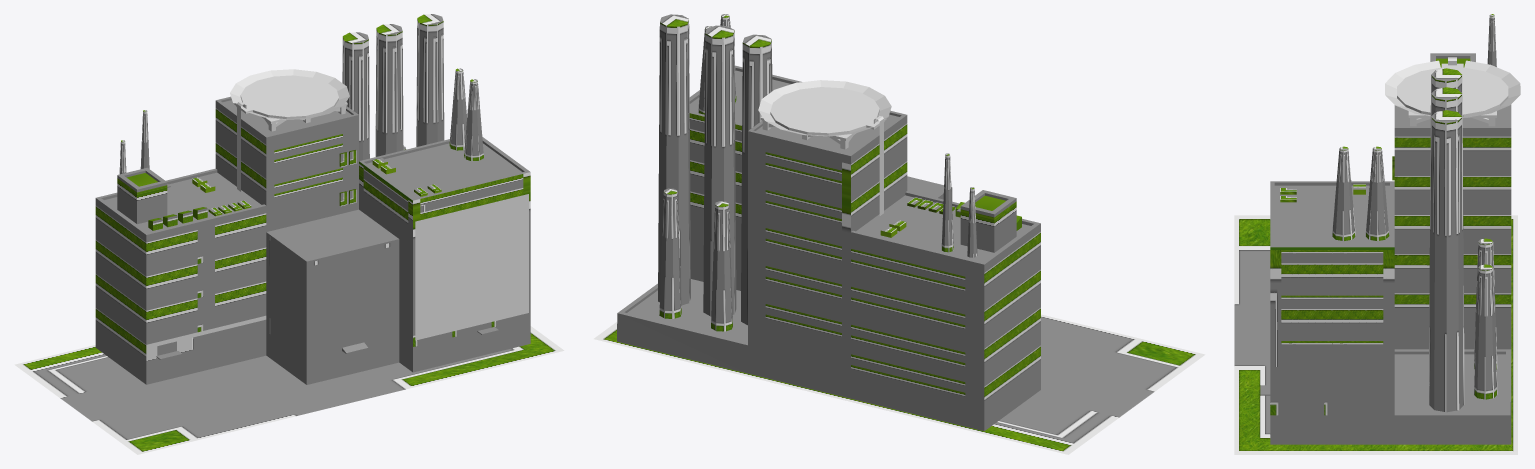
Rendered from Factory_Lvl_HUGE.fbx.
The picture shows the model from 3 angles, left to right: view 1: azimuth 30°, elevation 25°; view 2: azimuth 150°, elevation 25°; view 3: azimuth 270°, elevation 25°; orthographic projection. The views are drawn at different scales.
Visible parts, largest first — view 1: Factory_Huge, Factory_BG_Huge, Graffiti_001, HelicopterPlace, HelicopterPlace_Alpha_DoubleSided; view 2: Factory_Huge, Factory_BG_Huge, HelicopterPlace, HelicopterPlace_Alpha_DoubleSided; view 3: Factory_Huge, Factory_BG_Huge, HelicopterPlace, HelicopterPlace_Alpha_DoubleSided.
Part boxes in pixels (box(x1,y1,x2,y2)): Factory_Huge: box(95, 14, 530, 384); Factory_BG_Huge: box(14, 326, 564, 454); Graffiti_001: box(415, 194, 528, 340); HelicopterPlace: box(234, 75, 347, 131); HelicopterPlace_Alpha_DoubleSided: box(230, 69, 349, 191); Factory_Huge: box(617, 14, 1040, 431); Factory_BG_Huge: box(594, 314, 1205, 454); HelicopterPlace: box(760, 87, 886, 149); HelicopterPlace_Alpha_DoubleSided: box(758, 80, 891, 215); Factory_Huge: box(1260, 14, 1511, 444); Factory_BG_Huge: box(1234, 215, 1517, 454); HelicopterPlace: box(1397, 63, 1508, 126); HelicopterPlace_Alpha_DoubleSided: box(1385, 57, 1520, 117).
Size of the model in its own units: 4000 by 2450 by 2019.
